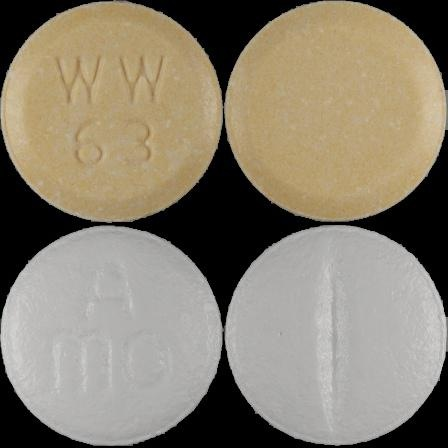67544-276: (0, 0, 224, 224)
